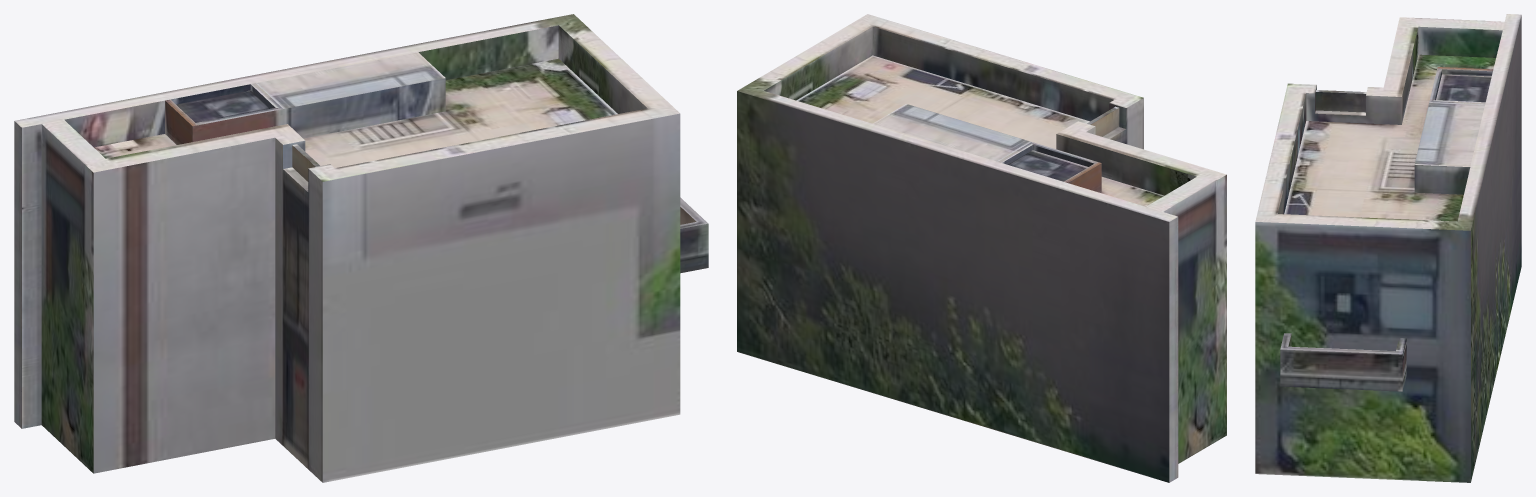
The picture shows the model from 3 angles, left to right: view 1: azimuth 30°, elevation 25°; view 2: azimuth 150°, elevation 25°; view 3: azimuth 270°, elevation 25°; orthographic projection. The views are drawn at different scales.
Parts seen in each view (by area): view 1: B286064038001062A0; view 2: B286064038001062A0; view 3: B286064038001062A0.
Boxes of the visible parts, x1,y1,x2,y2 form: B286064038001062A0: (14, 14, 708, 482); B286064038001062A0: (737, 14, 1226, 482); B286064038001062A0: (1255, 14, 1521, 482).
Size of the model in its own units: 16.41 by 8.37 by 8.01.
Materials: 1 (1 with a texture image).
